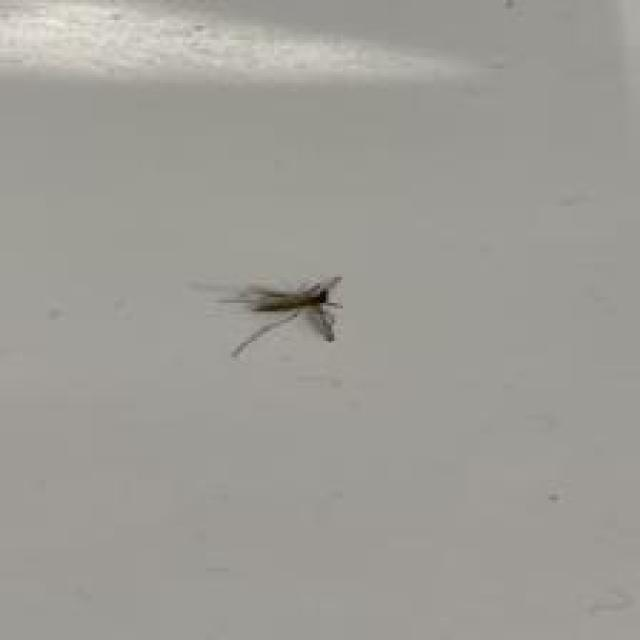Culex: (217, 273, 343, 358)
